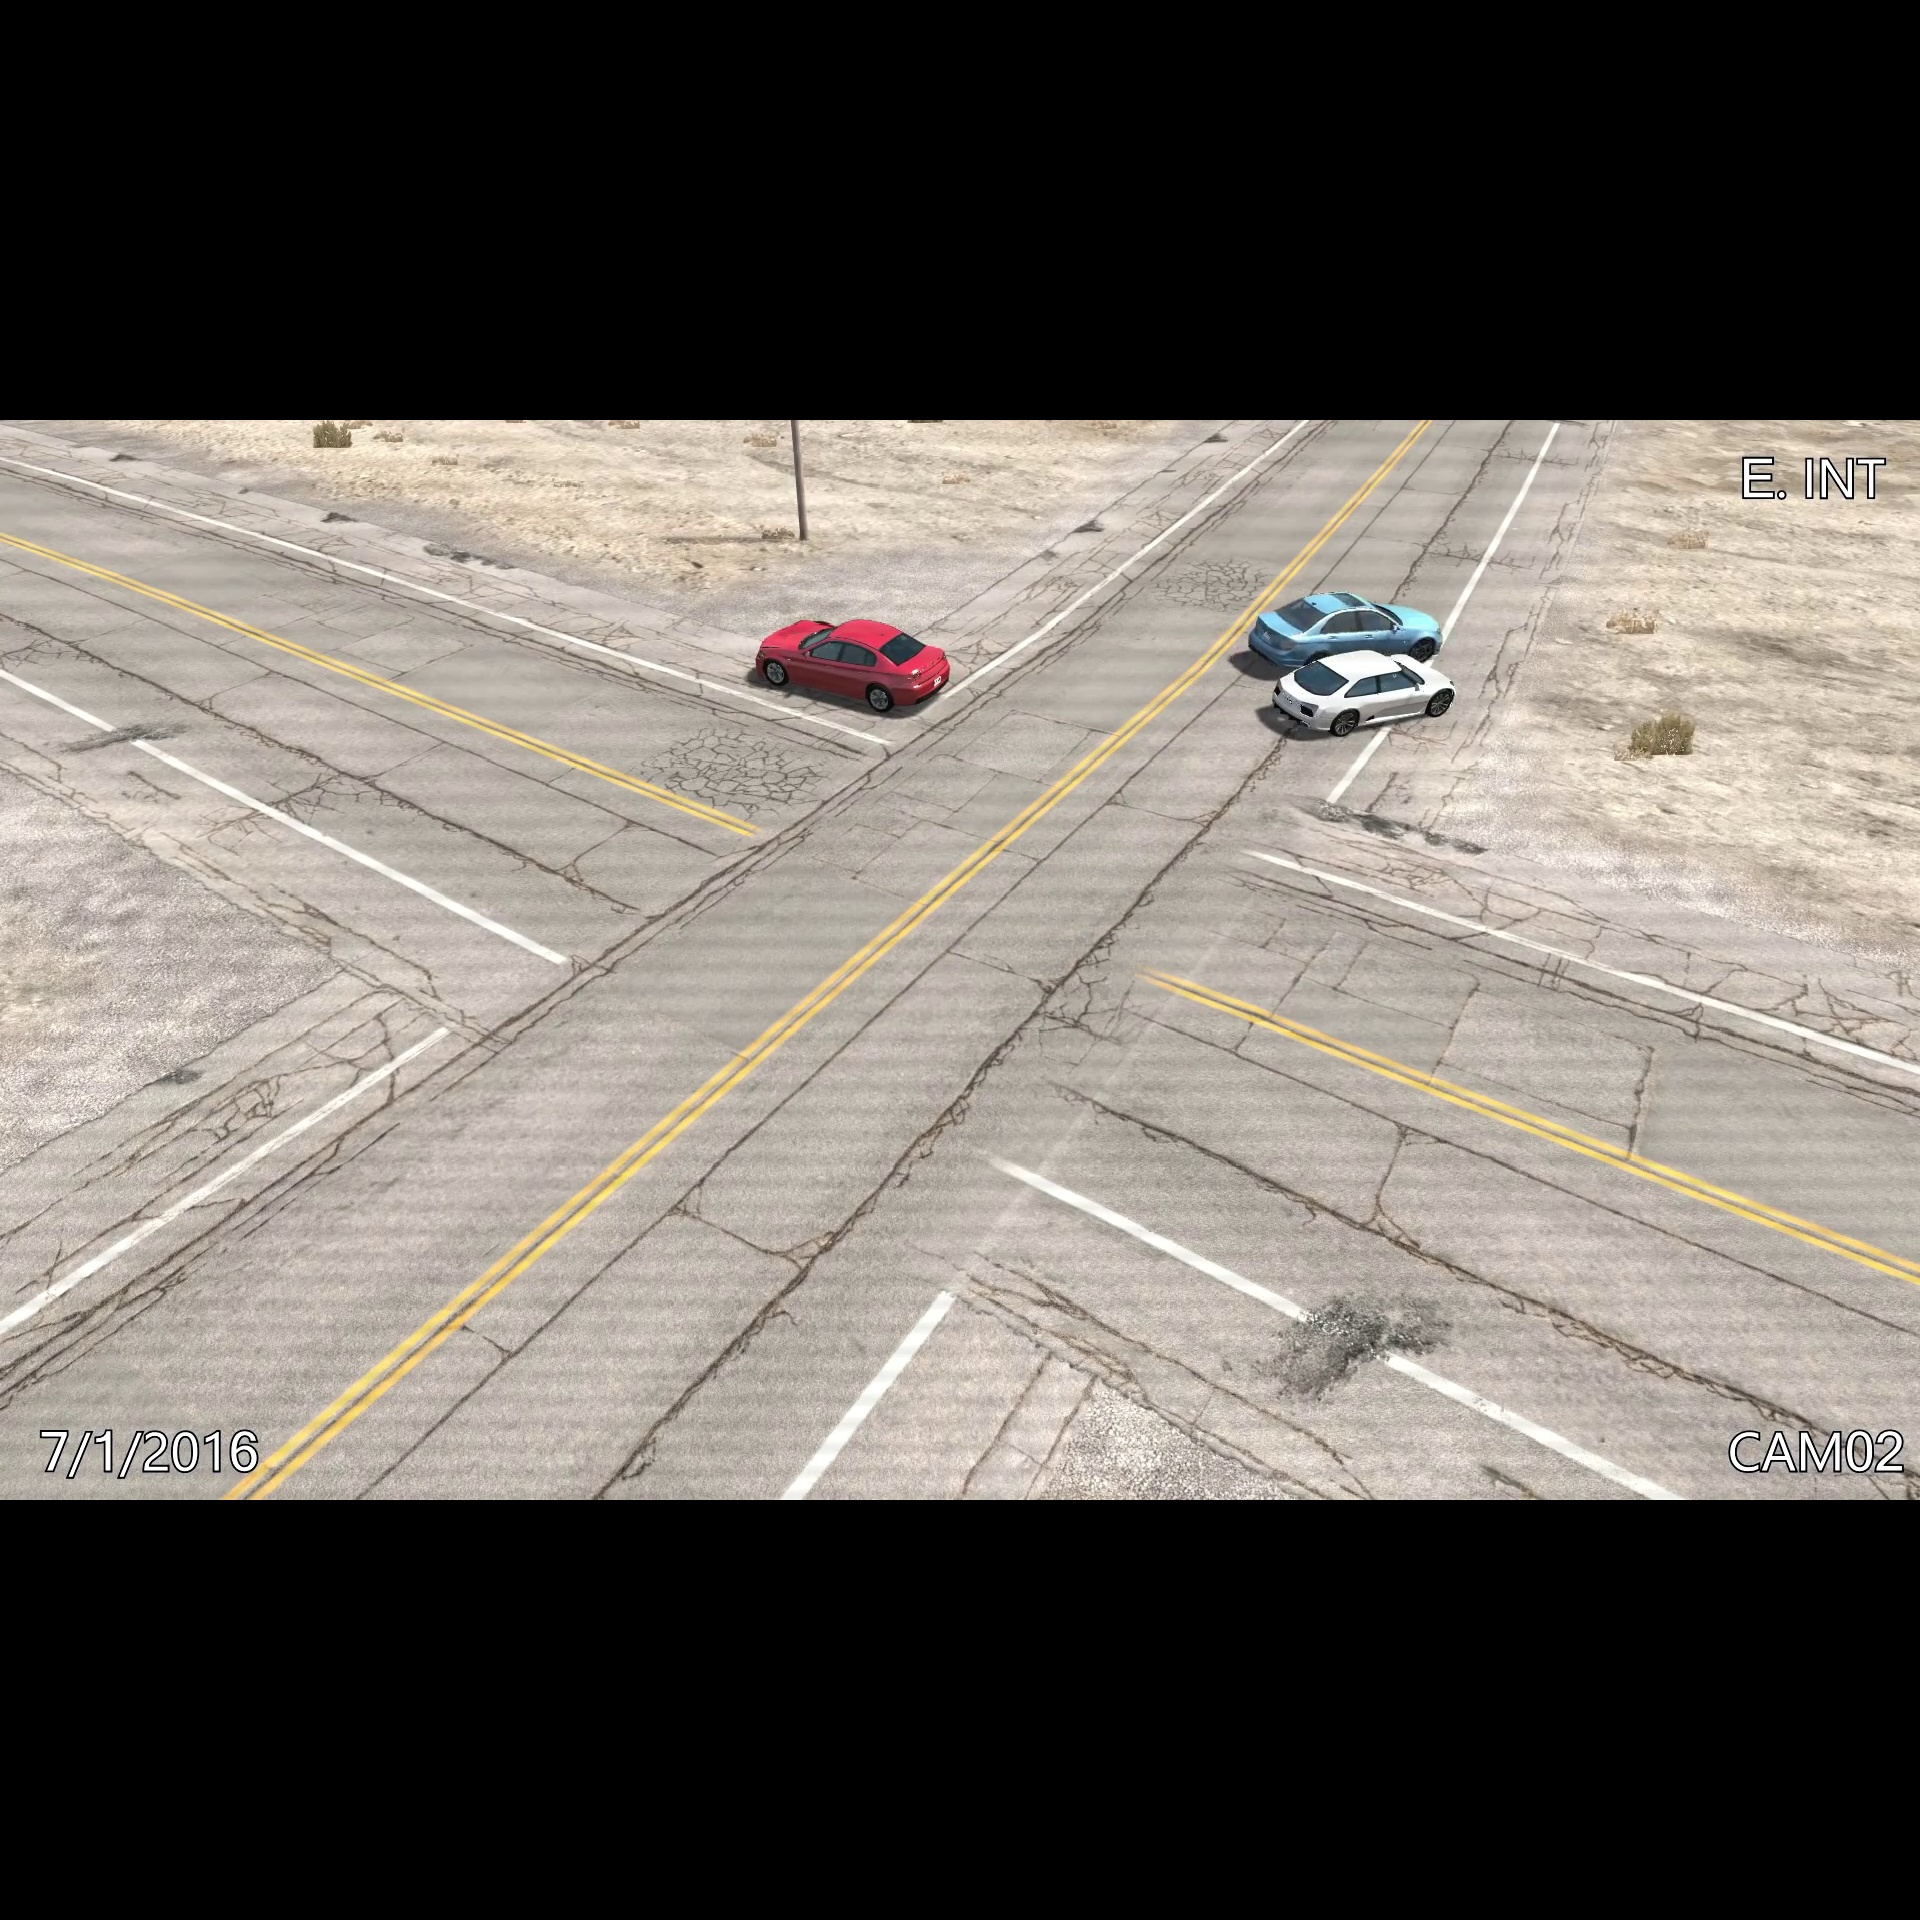vehicle: (751, 612, 958, 717), (1266, 651, 1466, 745), (1241, 587, 1445, 672)
